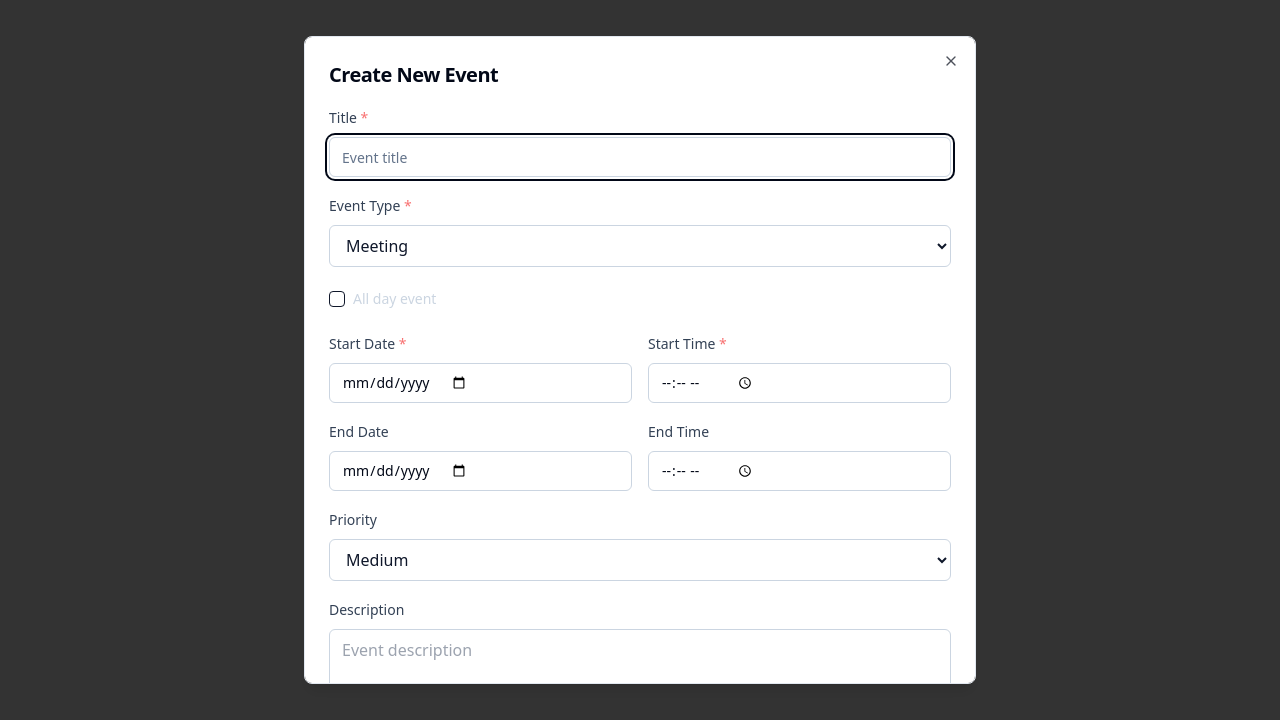
Test: EventFormDialog › requires start date
Type "Test Event" into the field labelled "Title *".
click(640, 157); type("Test Event")  # box [329,137,951,177]
(page scrolled)
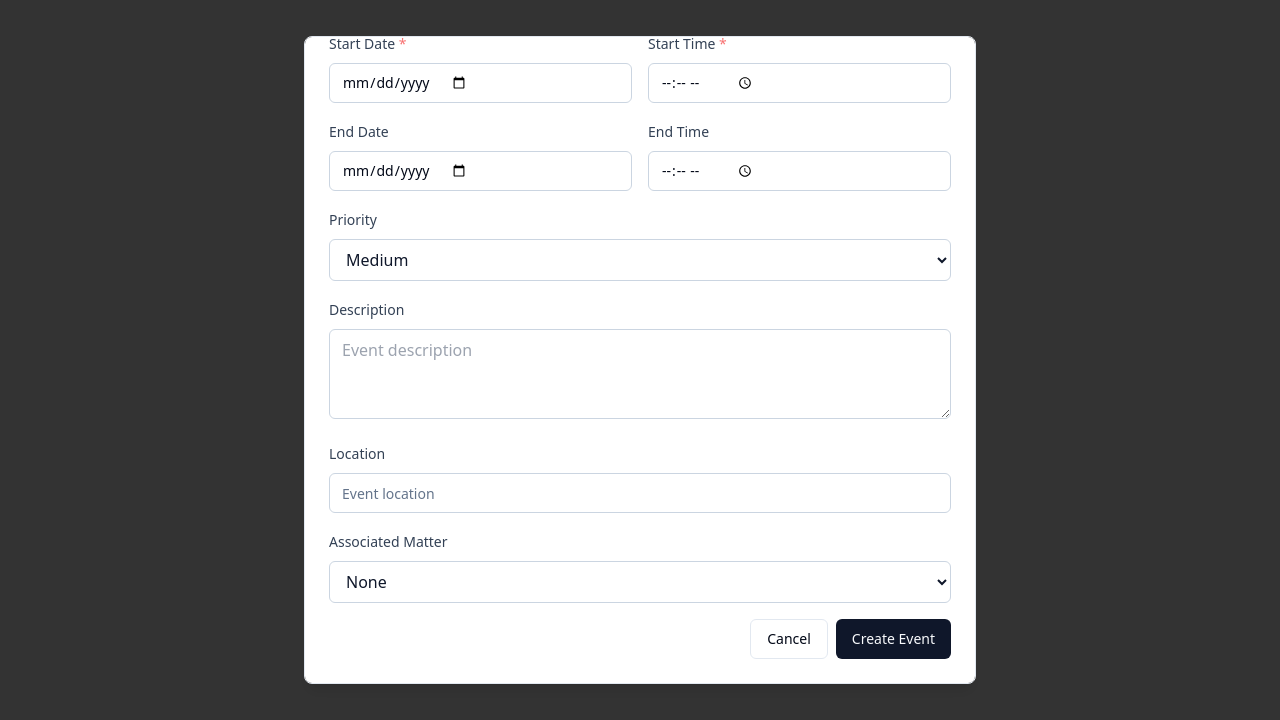
Click the button "Create Event".
click(893, 639)  # box [836,619,951,659]
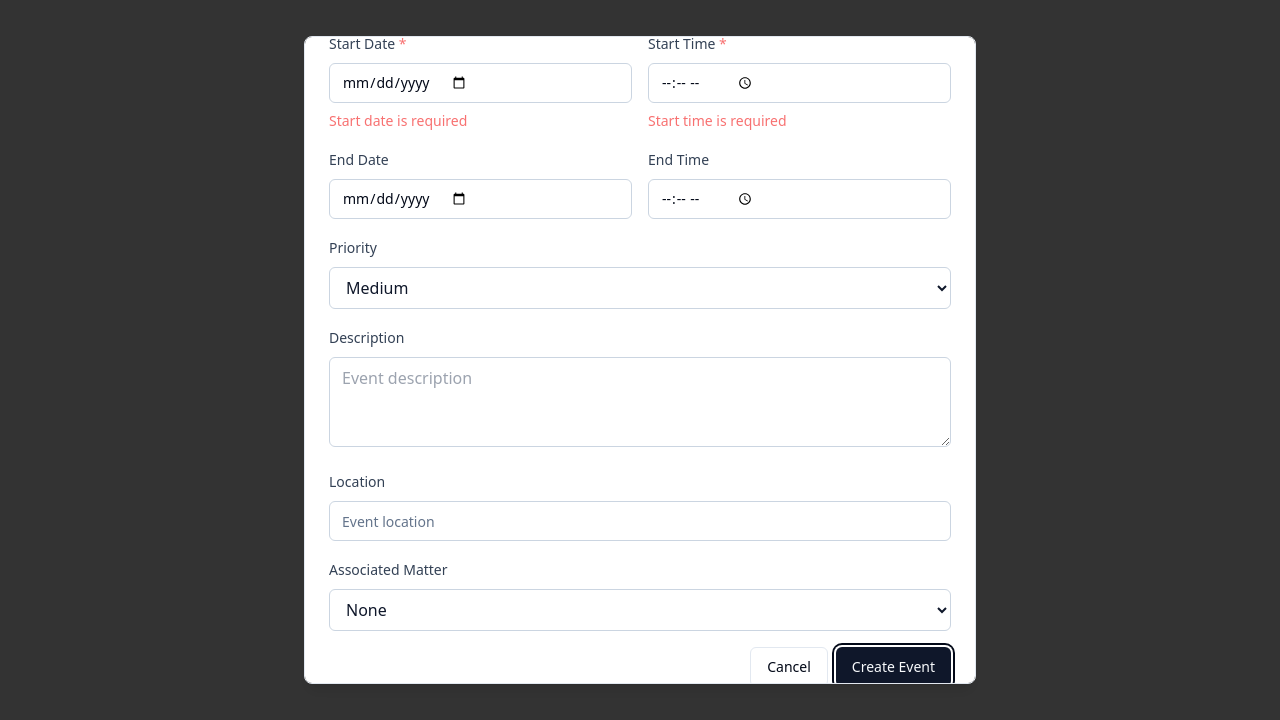
Expected: the text "Start date is required" is shown, [329,111,467,130]
